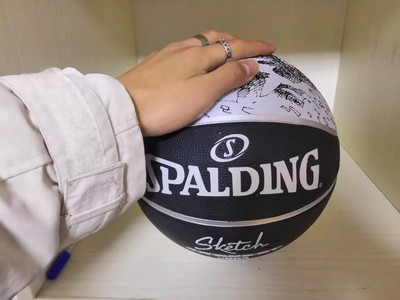ball: (130, 49, 341, 261)
